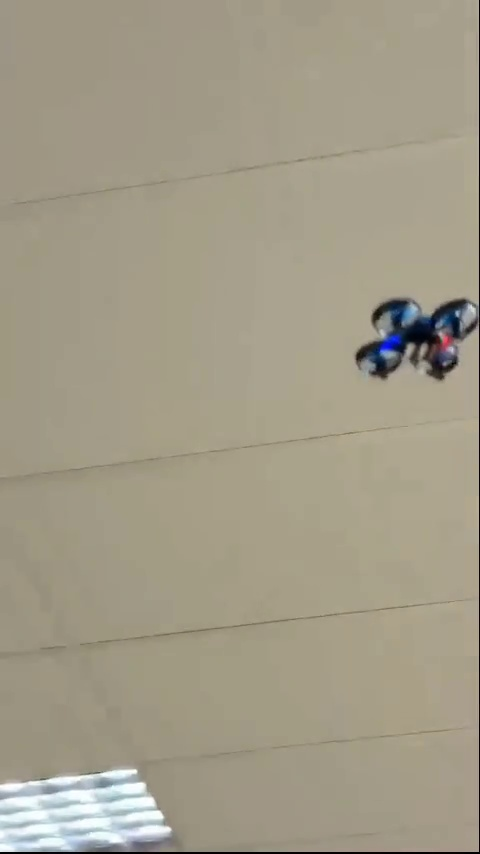drone: (351, 297, 480, 378)
